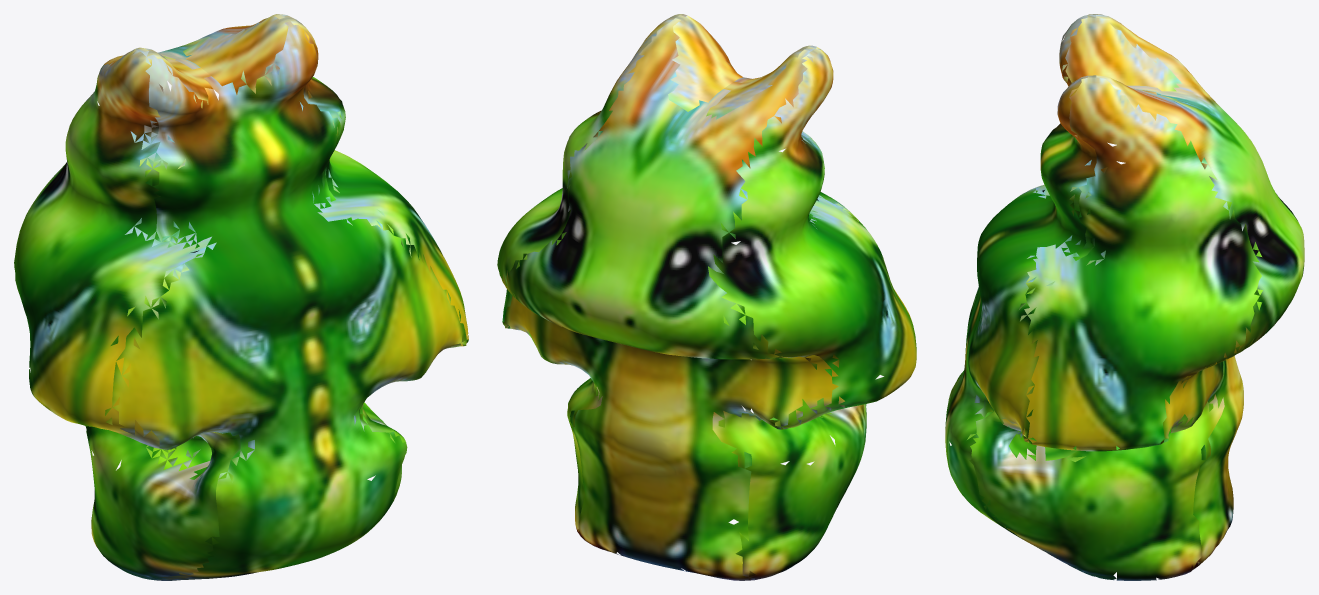
File: Dragon.glb
The picture shows the model from 3 angles, left to right: view 1: azimuth 30°, elevation 25°; view 2: azimuth 150°, elevation 25°; view 3: azimuth 270°, elevation 25°; orthographic projection. The views are drawn at different scales.
Visible parts, largest first — view 1: Dragon; view 2: Dragon; view 3: Dragon.
Part boxes in pixels (x1,y1,x2,y2): Dragon: [14, 14, 468, 580]; Dragon: [497, 14, 916, 580]; Dragon: [945, 14, 1304, 580].
Size of the model in its own units: 3.24 by 4.09 by 2.76.
Materials: 1 (1 with a texture image).
